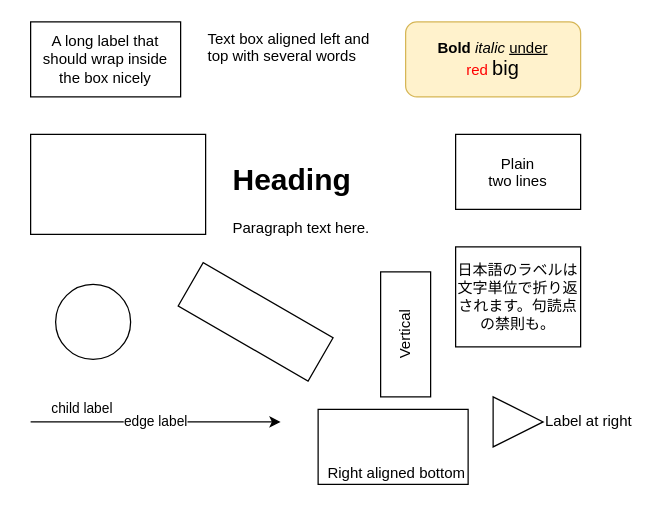
The diagram is 654 pixels wide and 506 high, and some of its shapes have lost their labels. The centre of each missing label's shape, as x and y in pixels:
First item Second item: point (117, 183)
Icon label: point (92, 321)
Rotated text: point (255, 321)
